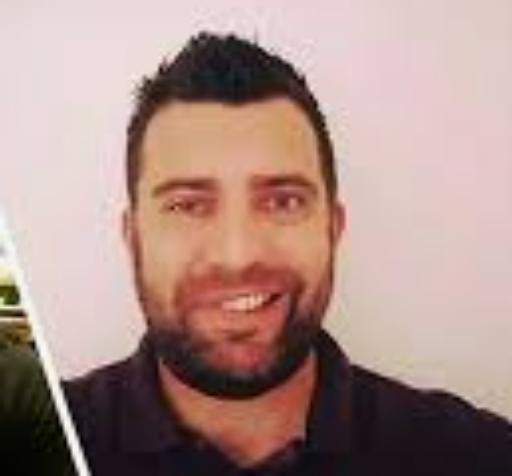left_eye: (256, 190, 310, 217)
left_lip_corner: (272, 284, 298, 305)
right_eye: (161, 196, 215, 220)
right_lip_corner: (192, 291, 219, 321)
